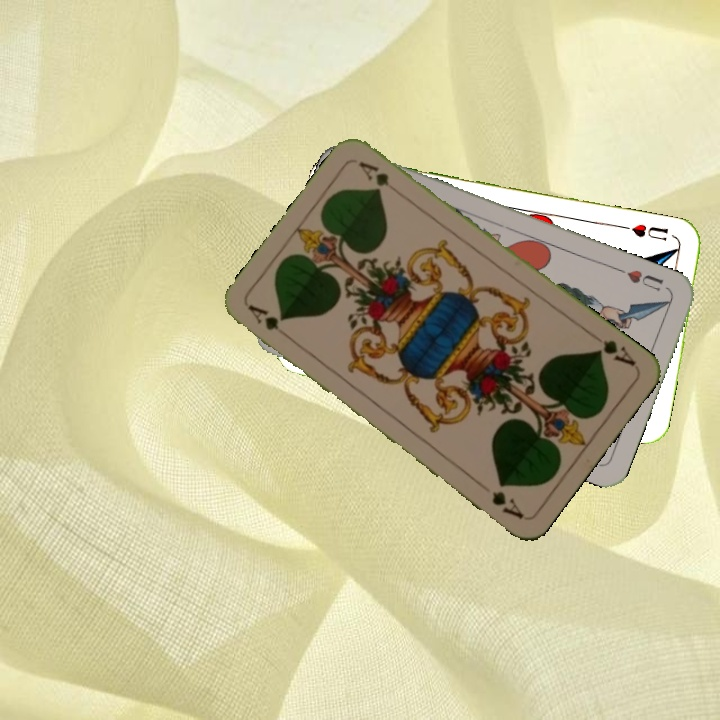GA: (244, 301, 295, 343), (588, 329, 639, 370)
HU: (614, 264, 666, 294), (628, 219, 671, 244)
